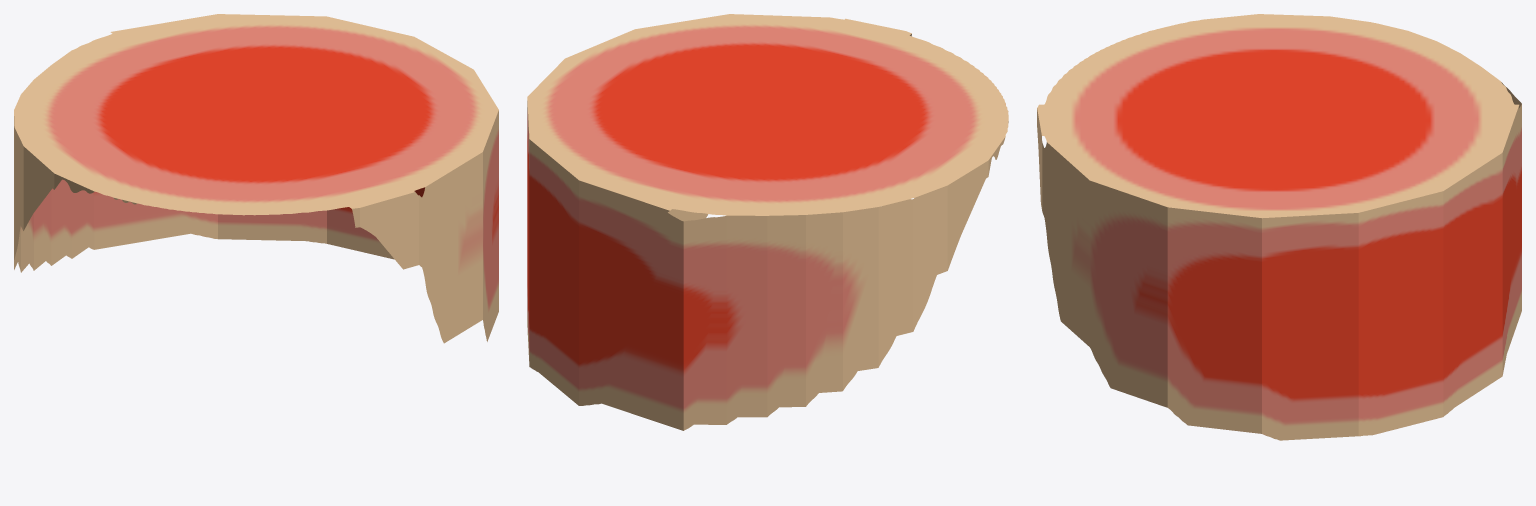
File: Sun.FBX
3 views of the same model, side by side, from view 1: azimuth 30°, elevation 25°; view 2: azimuth 150°, elevation 25°; view 3: azimuth 270°, elevation 25° (orthographic).
Parts seen in each view (by area): view 1: Shape1; view 2: Shape1; view 3: Shape1.
Boxes of the visible parts, bbox=[...] form: Shape1: bbox=[14, 14, 498, 343]; Shape1: bbox=[527, 14, 1008, 430]; Shape1: bbox=[1037, 14, 1521, 440].
Bounding box in the file's own units: 3.2 × 2 × 3.21.
